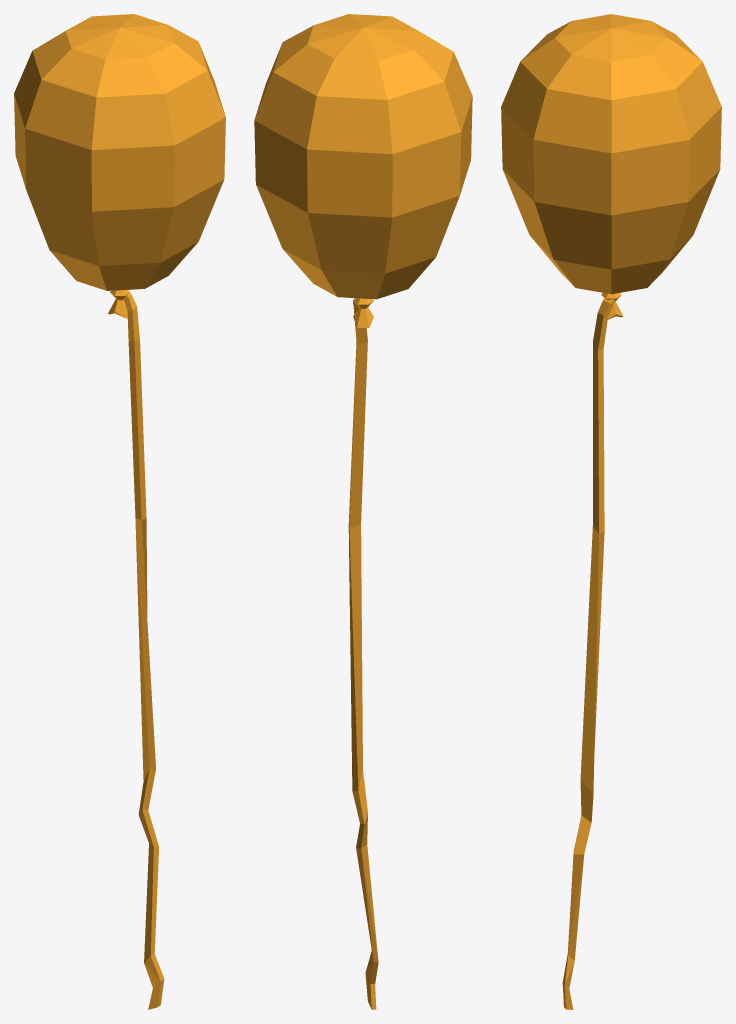
File: SM_Balloon_Small_Plain_Ribbon.fbx
The picture shows the model from 3 angles, left to right: view 1: azimuth 30°, elevation 25°; view 2: azimuth 150°, elevation 25°; view 3: azimuth 270°, elevation 25°; orthographic projection. The views are drawn at different scales.
Parts seen in each view (by area): view 1: balloon-small-plain-ribbon; view 2: balloon-small-plain-ribbon; view 3: balloon-small-plain-ribbon.
Boxes of the visible parts, left/top/right/bottom form: balloon-small-plain-ribbon: left=14, top=14, right=225, bottom=1009; balloon-small-plain-ribbon: left=254, top=14, right=472, bottom=1009; balloon-small-plain-ribbon: left=501, top=14, right=721, bottom=1009.
Size of the model in its own units: 0.2621 by 1.28 by 0.2621.
